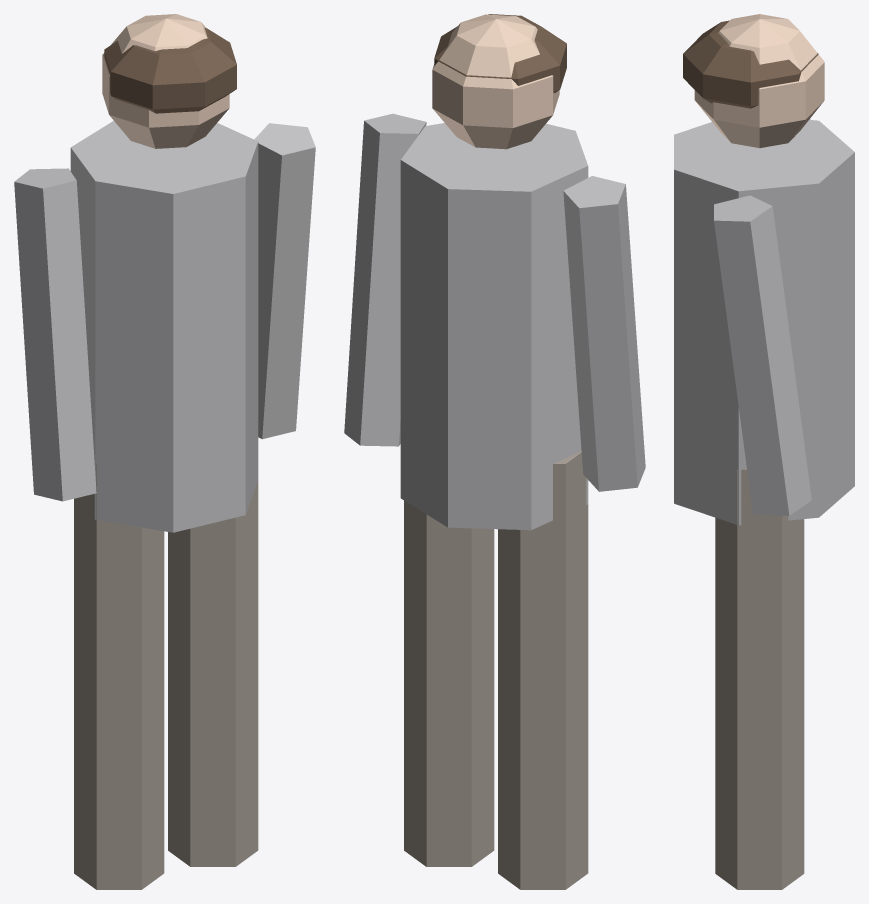
File: ped_5.glb
3 renders of one model, left to right at view 1: azimuth 30°, elevation 25°; view 2: azimuth 150°, elevation 25°; view 3: azimuth 270°, elevation 25°, orthographic.
Visible parts, largest first — view 1: ped_5; view 2: ped_5; view 3: ped_5.
Boxes of the visible parts, box(x1,y1,x2,y2) form: ped_5: box(14, 14, 315, 889); ped_5: box(344, 14, 645, 889); ped_5: box(674, 14, 854, 889).
Bounding box in the file's own units: 0.5246 × 1.54 × 0.3042.
